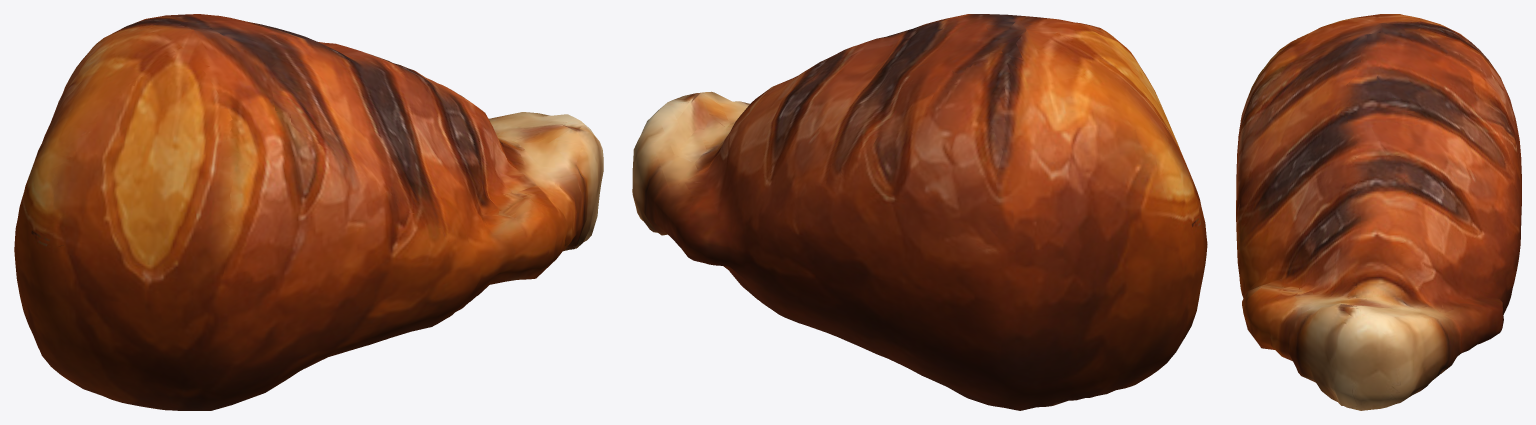
The model's file is cooked_game_meat.glb.
3 renders of one model, left to right at view 1: azimuth 30°, elevation 25°; view 2: azimuth 150°, elevation 25°; view 3: azimuth 270°, elevation 25°, orthographic. The views are drawn at different scales.
Visible parts, largest first — view 1: cooked_game_meat; view 2: cooked_game_meat; view 3: cooked_game_meat.
Part boxes in pixels (left/top/right/bottom): cooked_game_meat: left=14, top=14, right=603, bottom=410; cooked_game_meat: left=632, top=14, right=1207, bottom=410; cooked_game_meat: left=1236, top=14, right=1521, bottom=410.
Size of the model in its own units: 0.44 by 0.2686 by 0.2367.
1 material, 1 textured.
